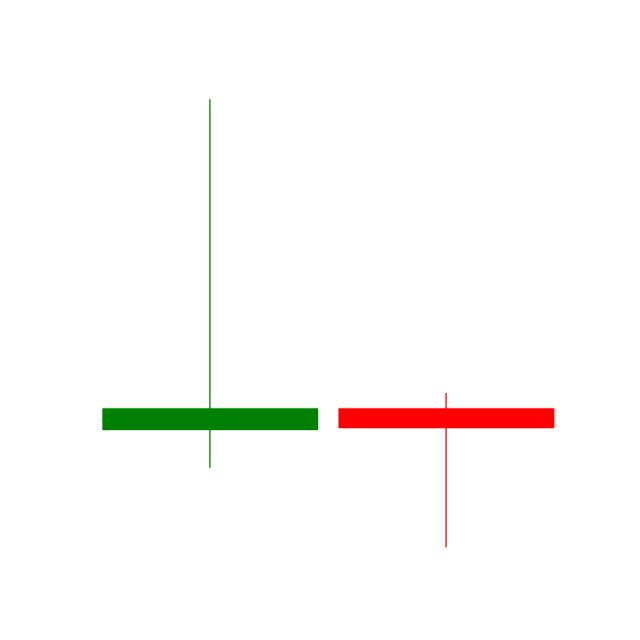Hanging Man: (327, 391, 565, 549)
Inverted Hammer: (98, 81, 321, 479)
